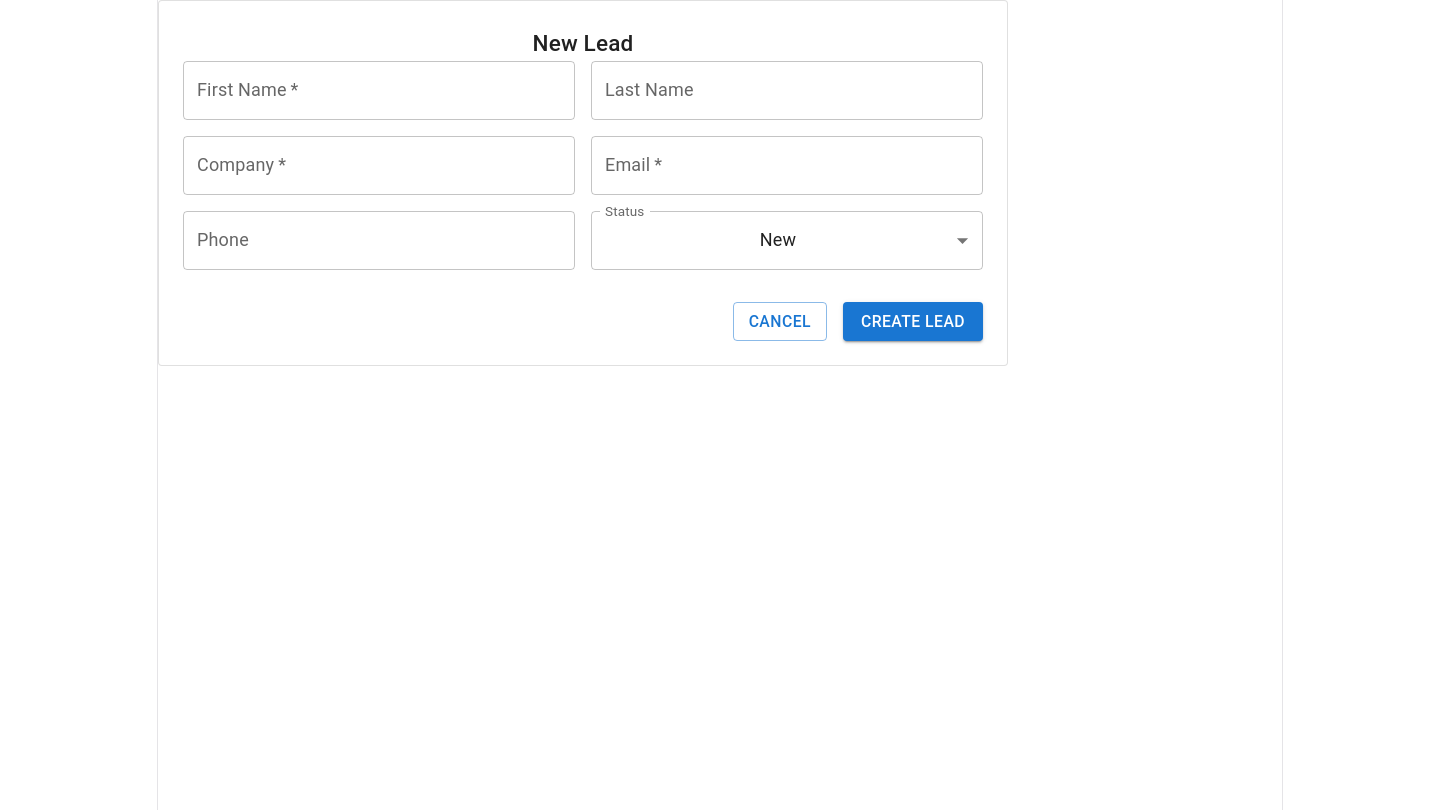
Test: LeadFormPage › shows validation error when First Name is empty
Click the button "Create Lead" at (913, 321), box [843,302,983,341]
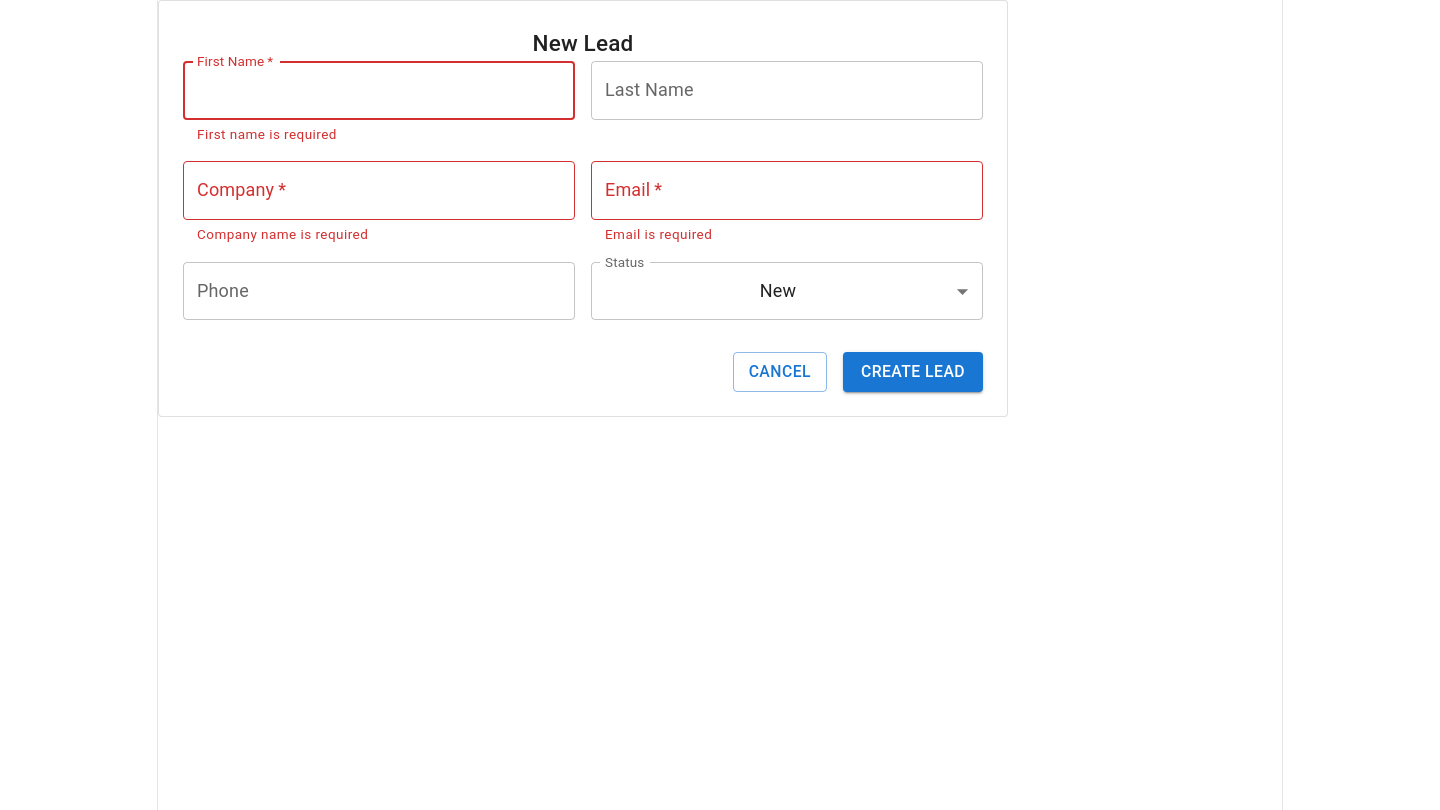
expect the text "First name is required" is shown: met, box [197,126,337,142]
